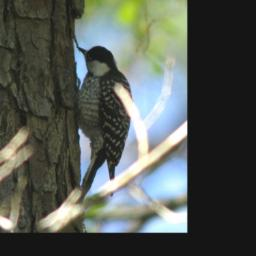Woodpecker: (74, 44, 133, 203)
